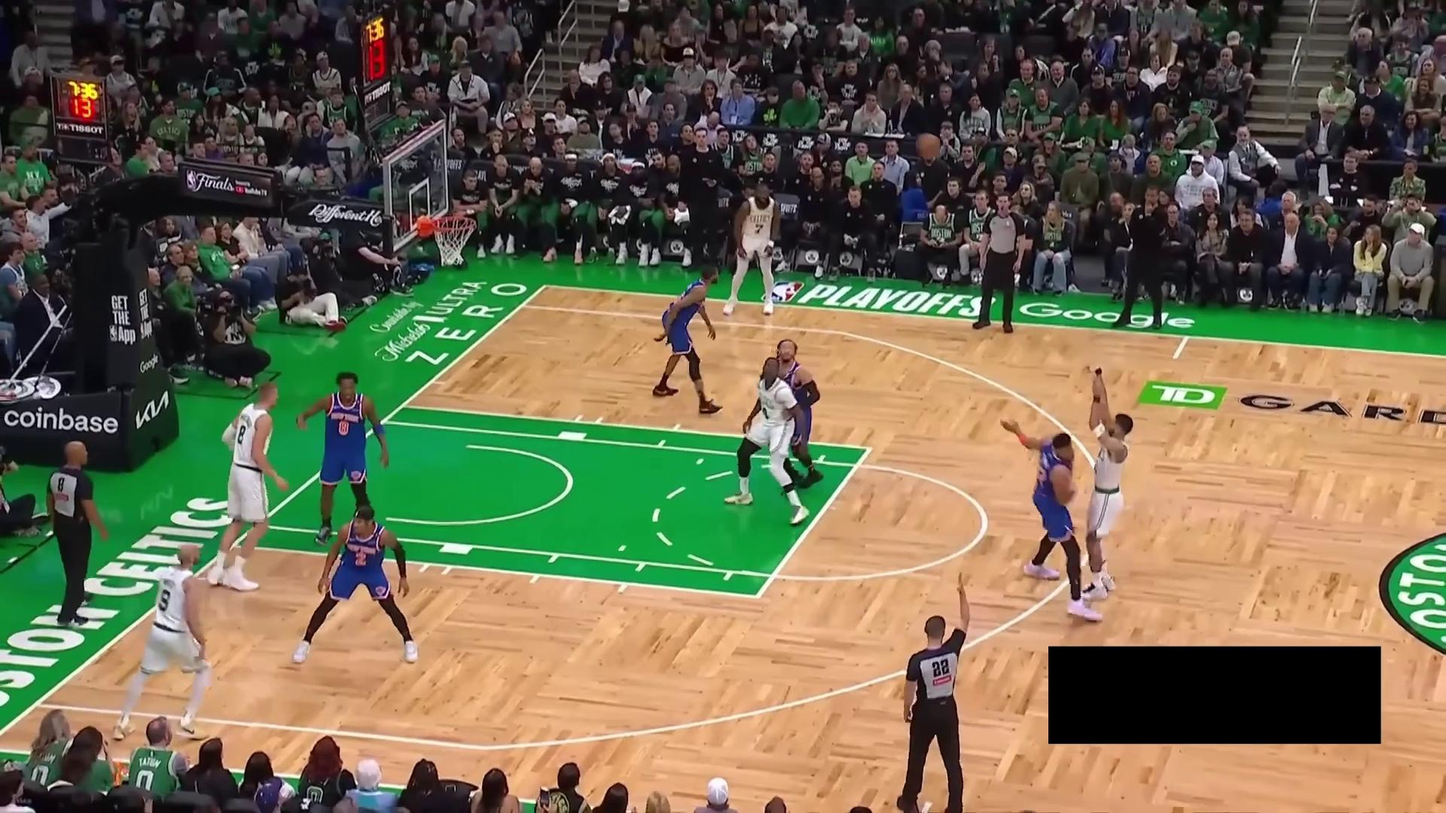ball: (916, 132, 941, 159)
number: (336, 419, 351, 437), (159, 589, 171, 611), (236, 424, 247, 445), (355, 551, 368, 566), (753, 222, 765, 235)
player: (997, 413, 1103, 623), (291, 503, 420, 666), (111, 541, 213, 743), (206, 379, 289, 593), (296, 370, 389, 547), (721, 355, 811, 527), (1082, 364, 1135, 600), (651, 263, 725, 416), (771, 338, 825, 494), (722, 179, 782, 317)
referee: (901, 570, 972, 813), (46, 440, 108, 627), (972, 191, 1027, 334)
rim: (431, 215, 477, 233)
